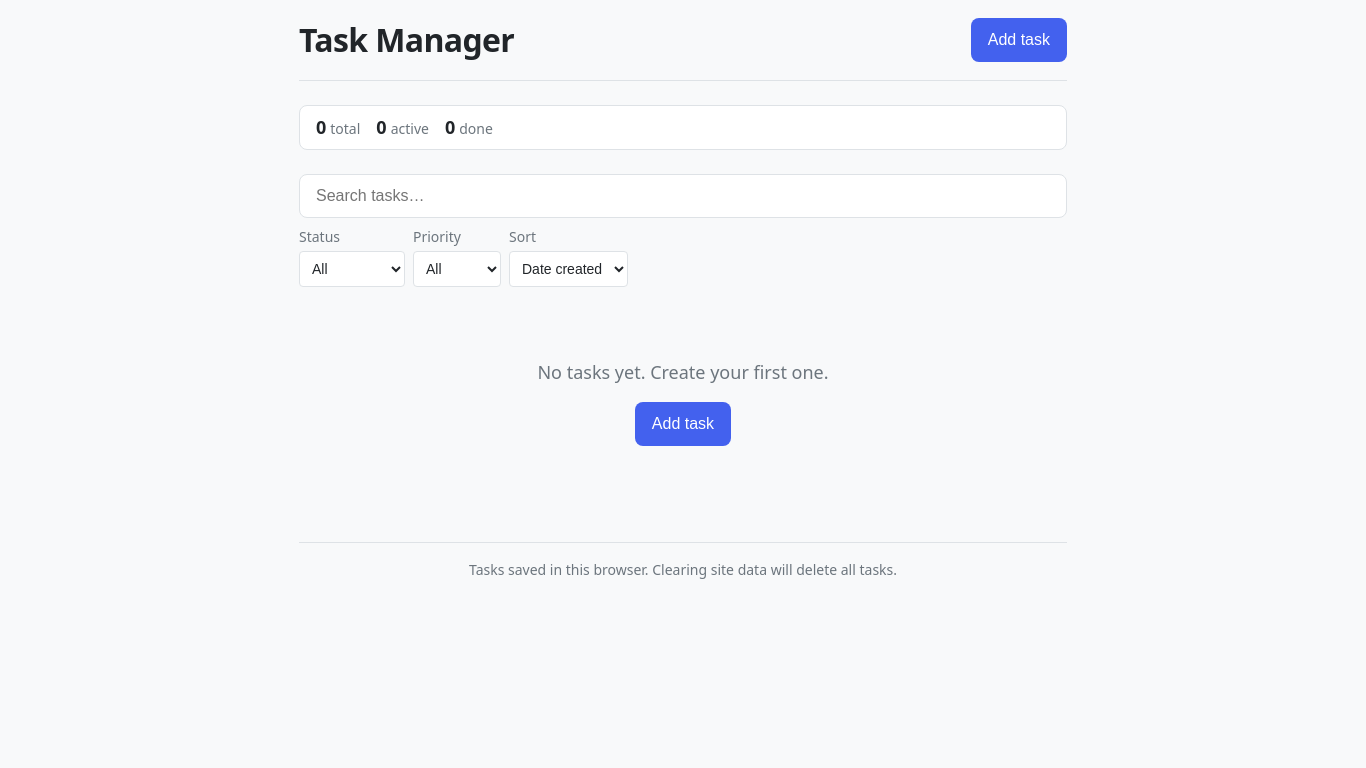
App integration › filters active tasks correctly
The width and height of the screenshot is (1366, 768).
# Create two tasks, complete one
Click the button "Add task" in the row of "Task Manager": click(1019, 40) [971, 18, 1067, 62]
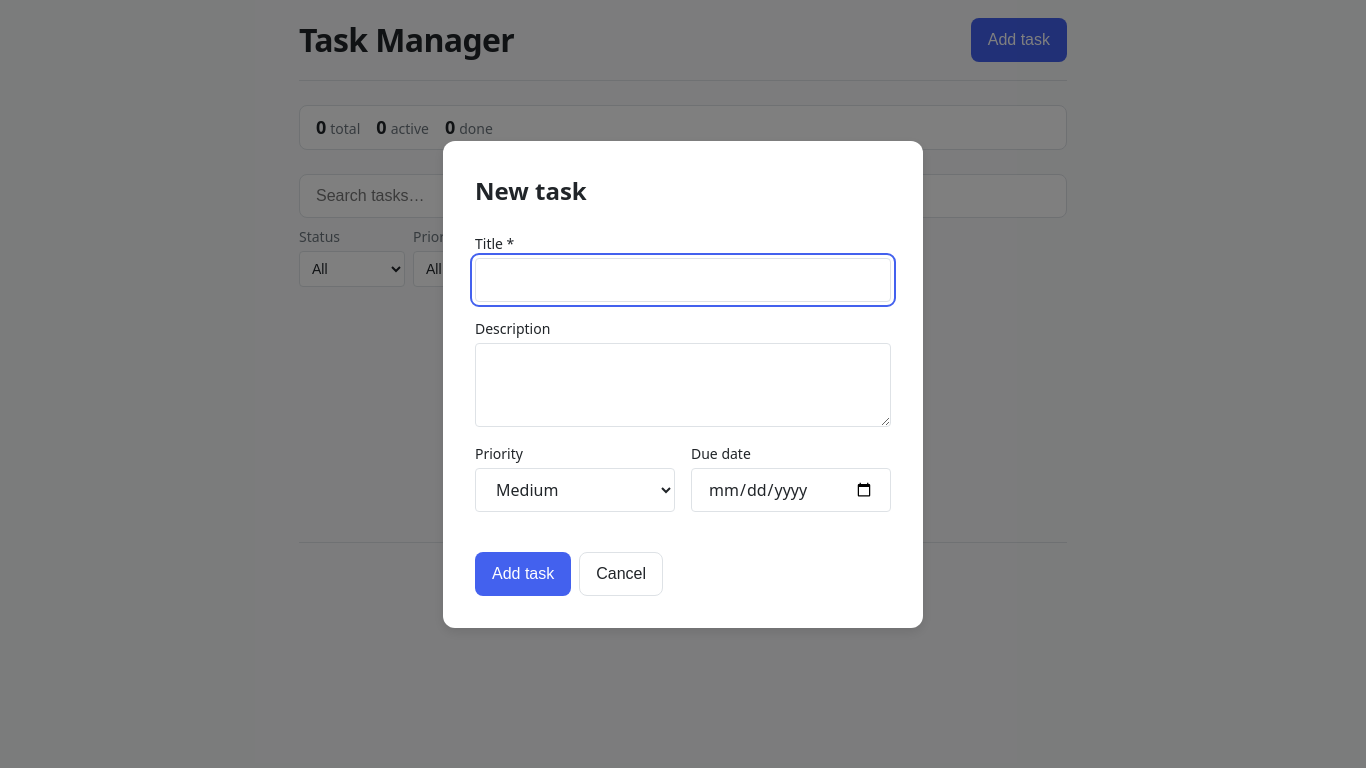
In the field labelled "Title *": (683, 280) [475, 258, 891, 302], type "Active task"
Click the button "Add task": click(523, 574) [475, 552, 571, 596]
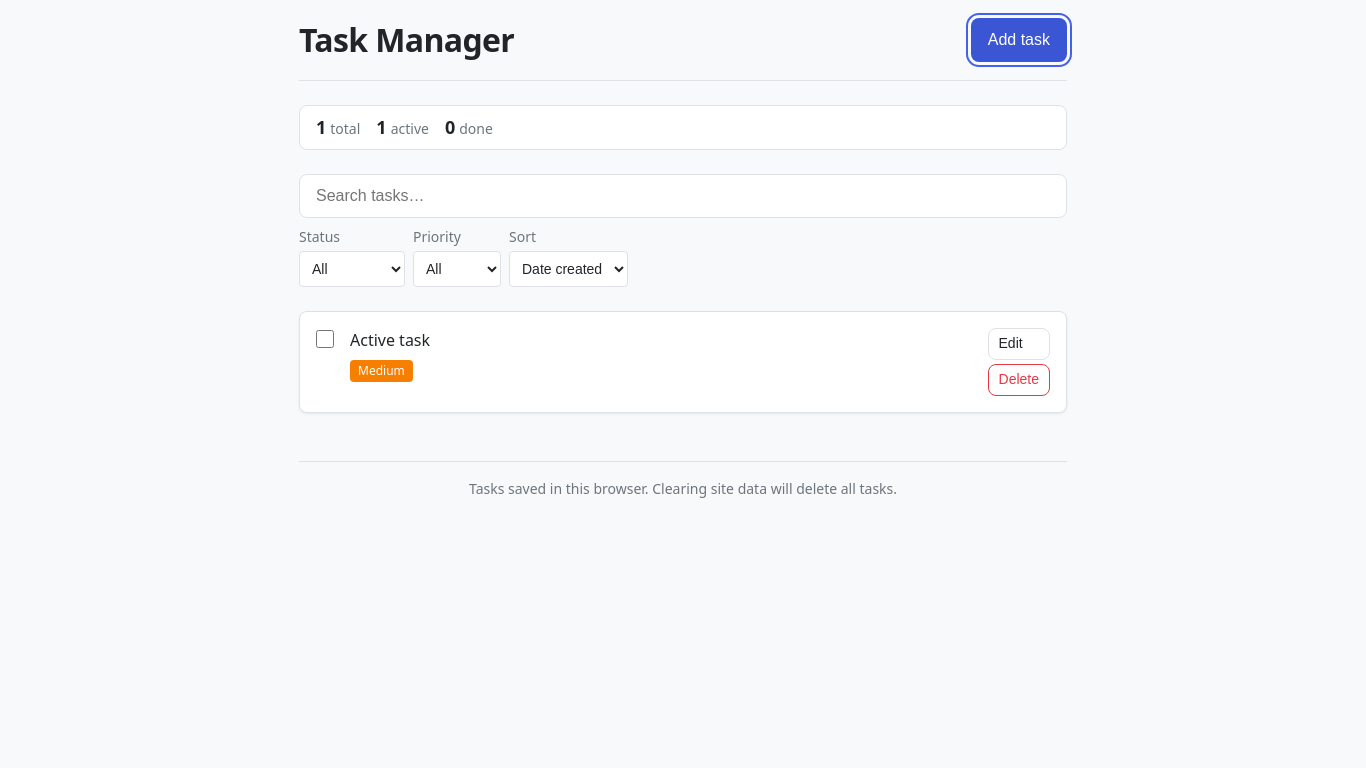
Click the button "Add task": click(1019, 40) [971, 18, 1067, 62]
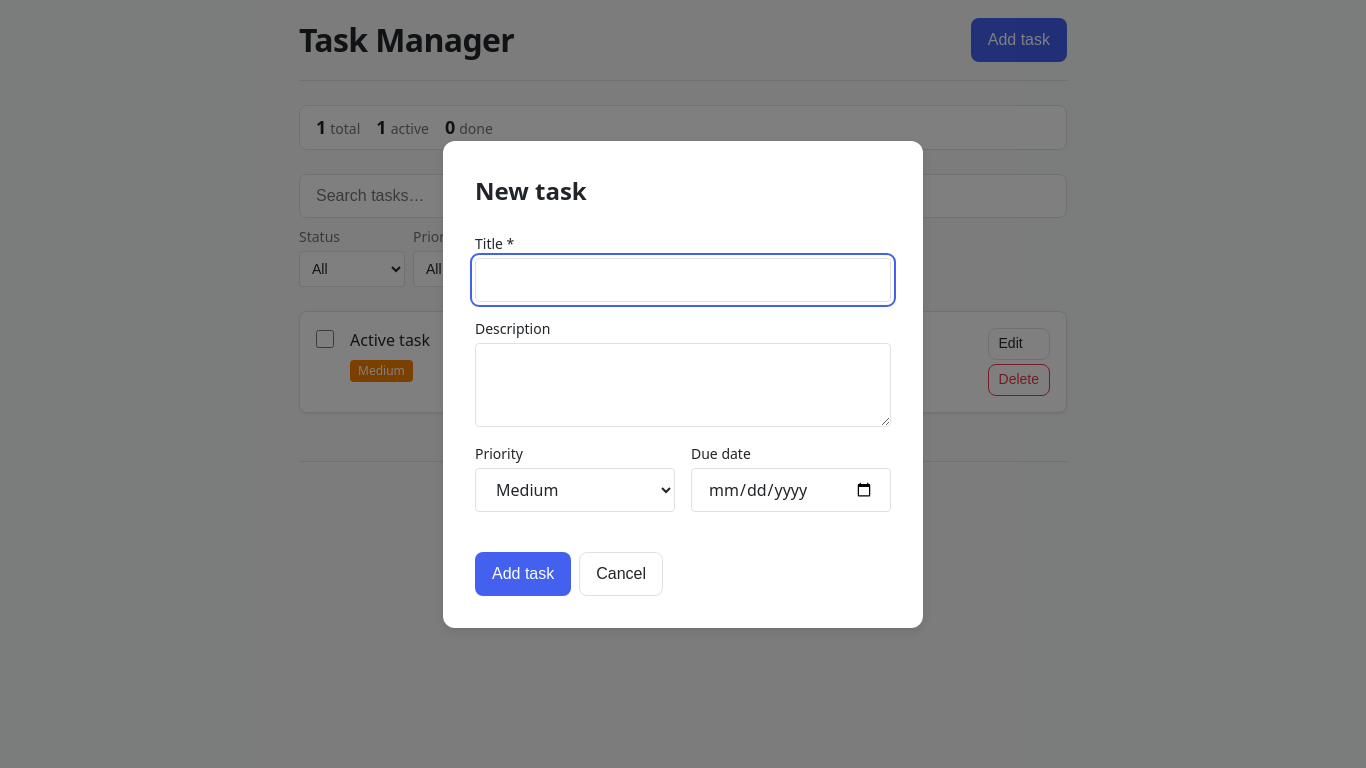
In the field labelled "Title *": (683, 280) [475, 258, 891, 302], type "Done task"
Click the button "Add task": click(523, 574) [475, 552, 571, 596]
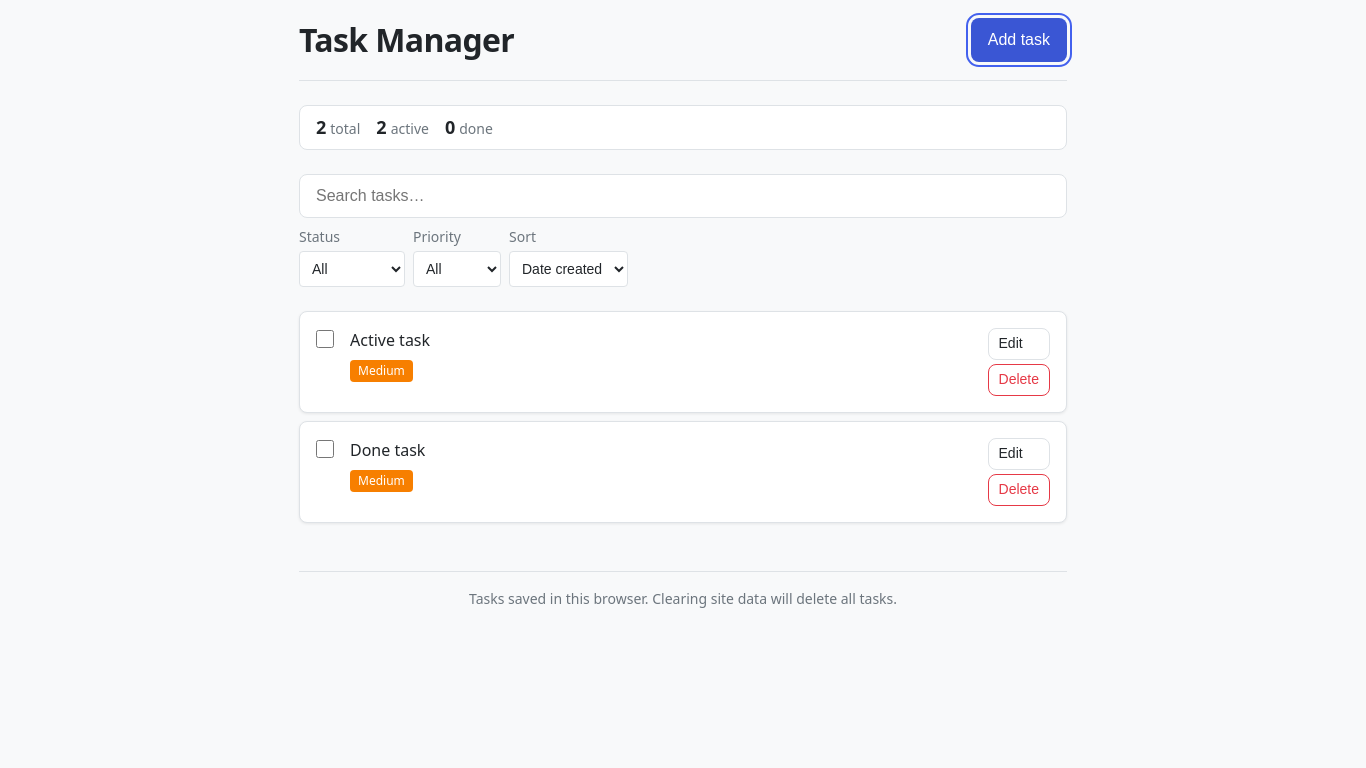
Click the checkbox named "mark \"done task\" complete": click(325, 449) [316, 440, 334, 458]
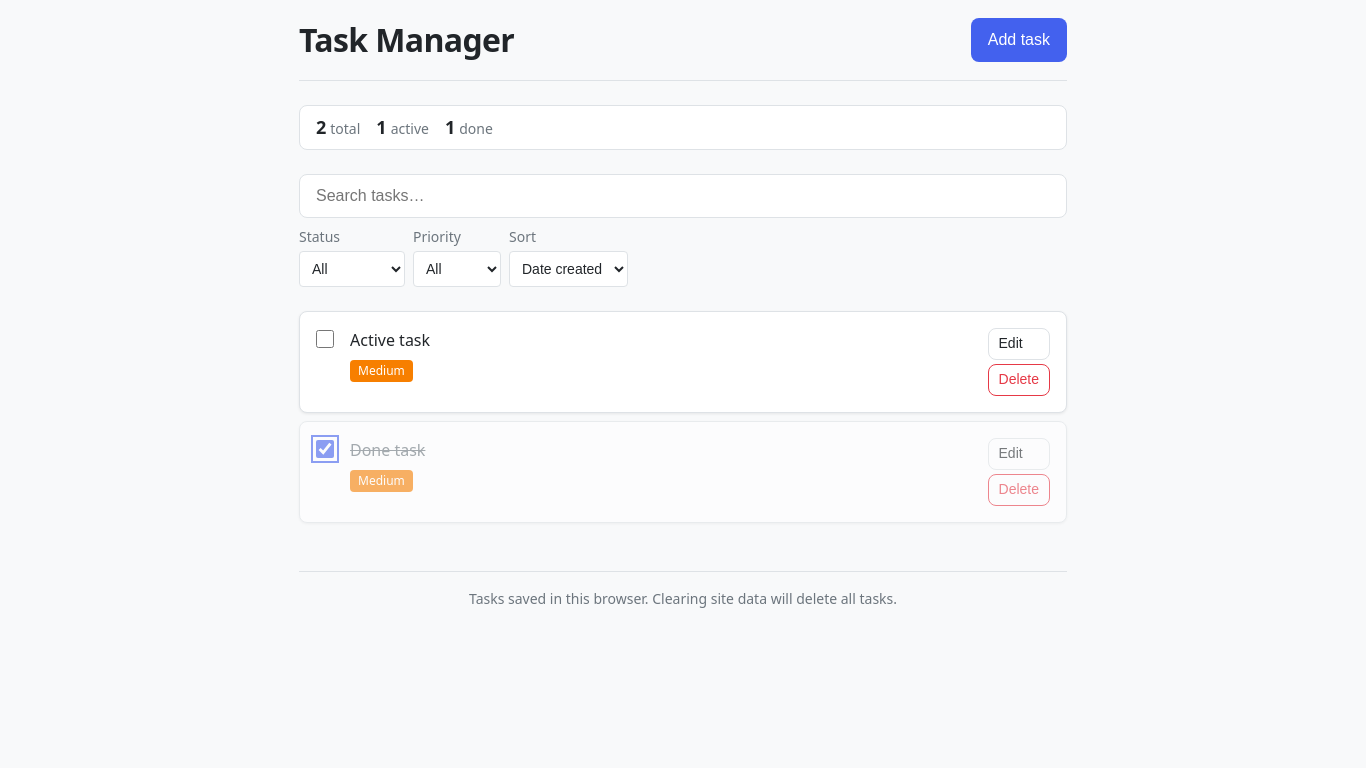
# Filter to active only
Select "Active" in the dropdown labelled "Status": (352, 269) [299, 251, 405, 287]
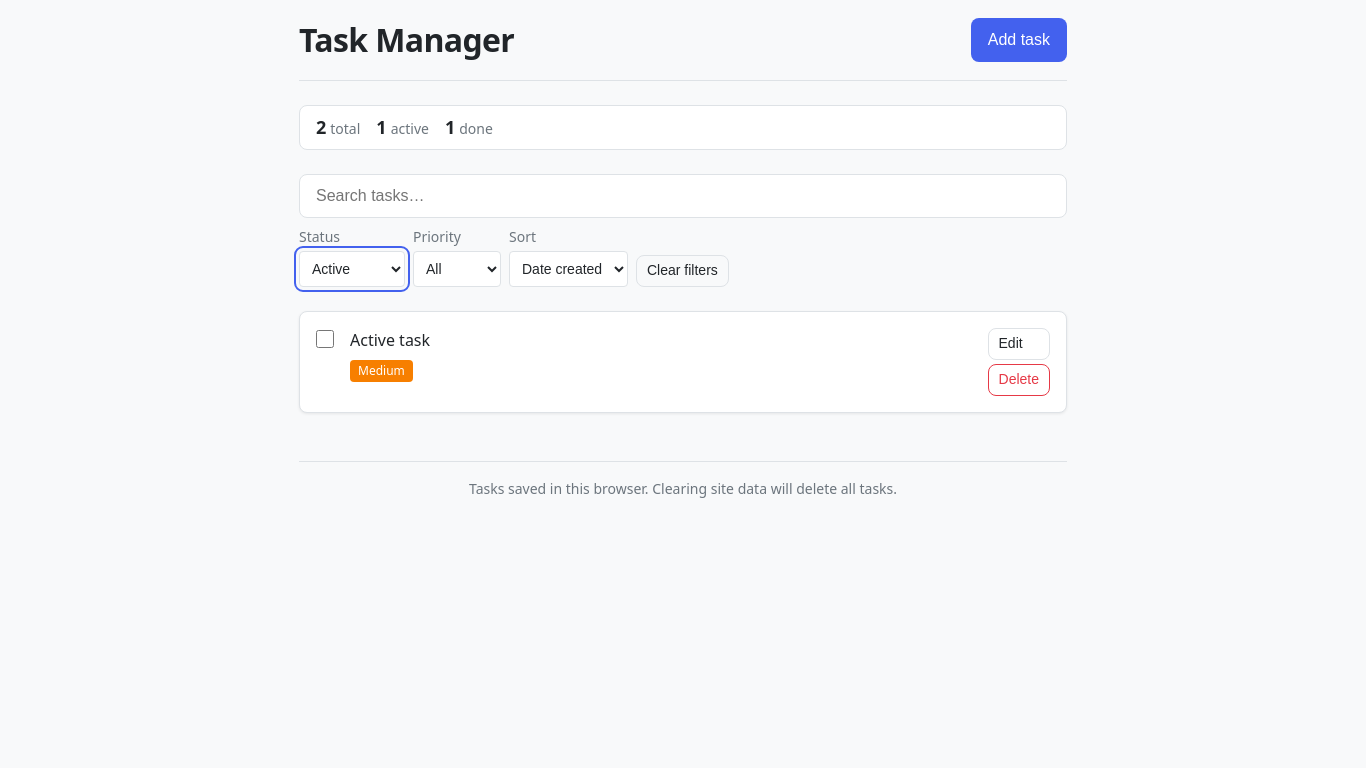
Expected: the text "Active task" is shown, [350, 329, 430, 351]
Expected: the text "Done task" is gone
